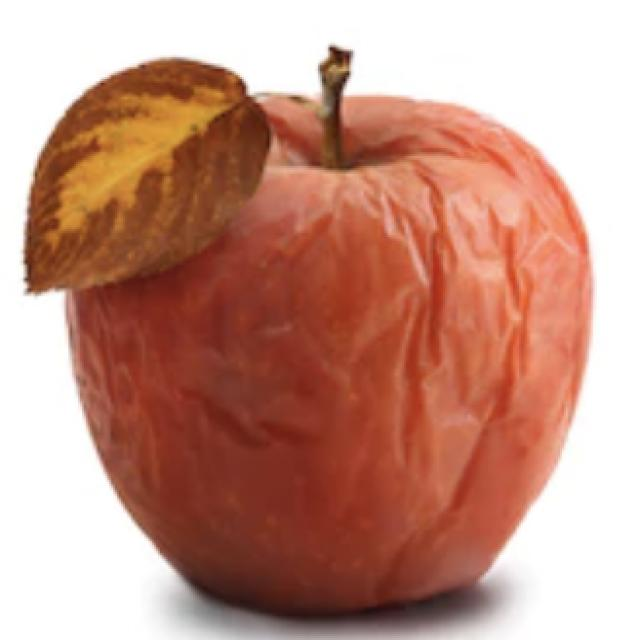rotten_apple: (59, 46, 601, 626)
